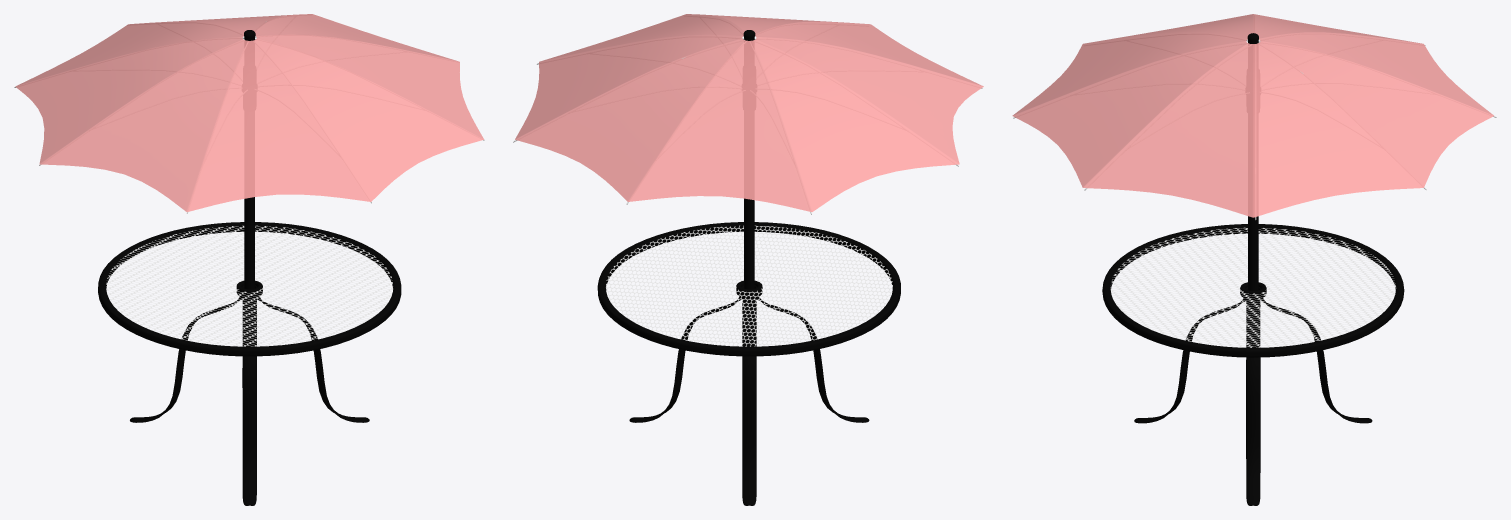
Rendered from mesa3.glb.
3 views of the same model, side by side, from view 1: azimuth 30°, elevation 25°; view 2: azimuth 150°, elevation 25°; view 3: azimuth 270°, elevation 25° (orthographic).
Visible parts, largest first — view 1: Umbrella, UmbrellaTableGrill, UmbrellaTableRim, UmbrellaTableLegs, UmbrellaPole; view 2: Umbrella, UmbrellaTableGrill, UmbrellaTableRim, UmbrellaTableLegs, UmbrellaPole; view 3: Umbrella, UmbrellaTableGrill, UmbrellaTableRim, UmbrellaTableLegs, UmbrellaPole.
Part boxes in pixels (<box>): Umbrella: <box>15,14,483,211</box>; UmbrellaTableGrill: <box>106,225,393,346</box>; UmbrellaTableRim: <box>98,222,401,356</box>; UmbrellaTableLegs: <box>130,285,369,505</box>; UmbrellaPole: <box>244,37,254,289</box>; Umbrella: <box>515,14,983,211</box>; UmbrellaTableGrill: <box>606,225,892,346</box>; UmbrellaTableRim: <box>597,222,900,356</box>; UmbrellaTableLegs: <box>629,285,869,505</box>; UmbrellaPole: <box>744,37,754,289</box>; Umbrella: <box>1012,14,1493,217</box>; UmbrellaTableGrill: <box>1110,227,1396,347</box>; UmbrellaTableRim: <box>1102,224,1404,357</box>; UmbrellaTableLegs: <box>1134,287,1372,505</box>; UmbrellaPole: <box>1248,40,1258,290</box>.
Bounding box in the file's own units: 6.07 × 5.74 × 6.08.
Materials: 4 (1 with a texture image).
